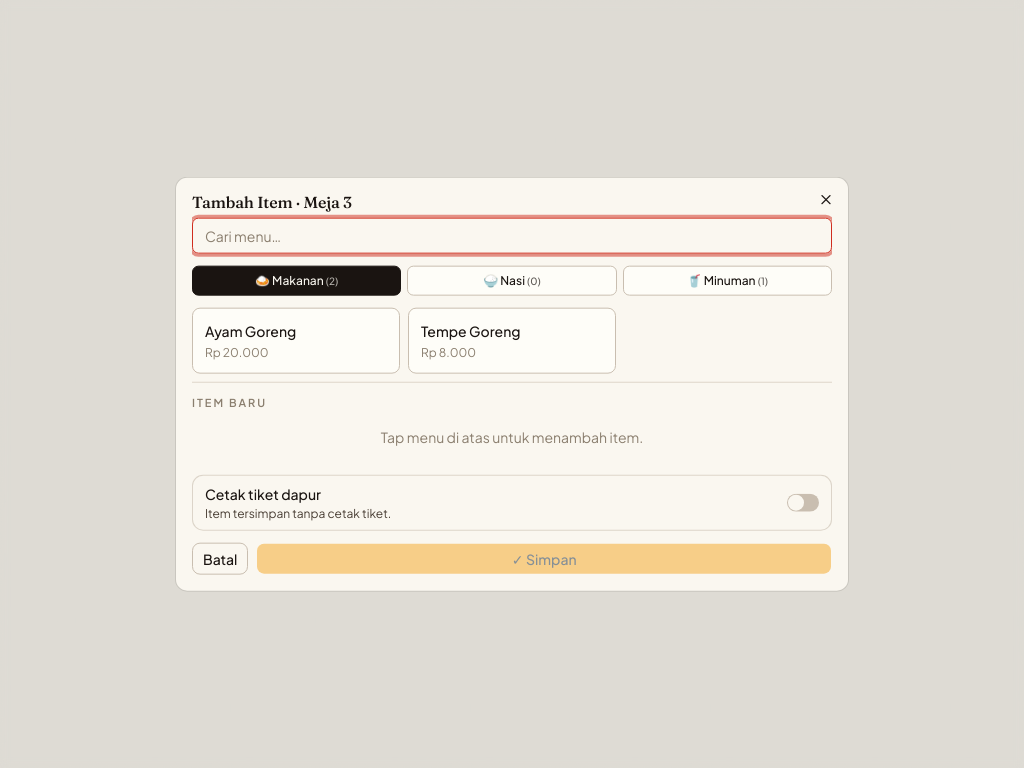
<MonitorAddItemModal /> — opsi cetak › label tombol ikut state switch
This screenshot has width=1024, height=768.
Click the button "Ayam Goreng Rp 20.000".
click(296, 341)  # box [192, 308, 400, 374]
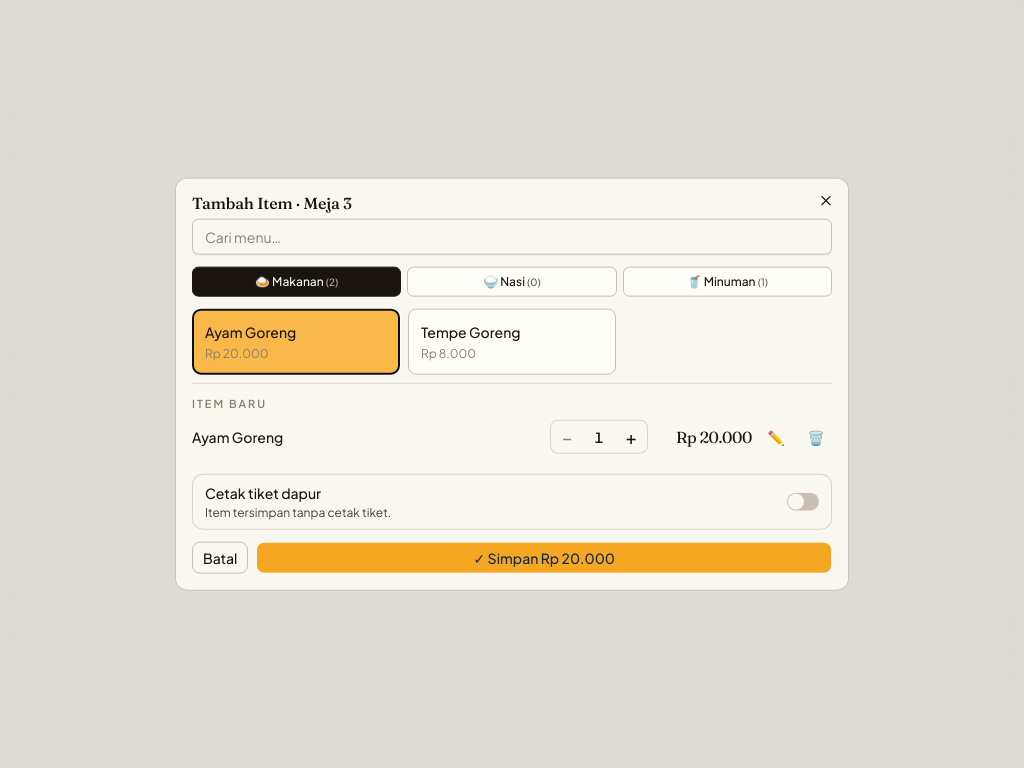
Expected: the button "✓ Simpan Rp 20.000" does not show "cetak", [256, 541, 832, 573]
Click the switch.
click(803, 501)  # box [787, 492, 819, 510]
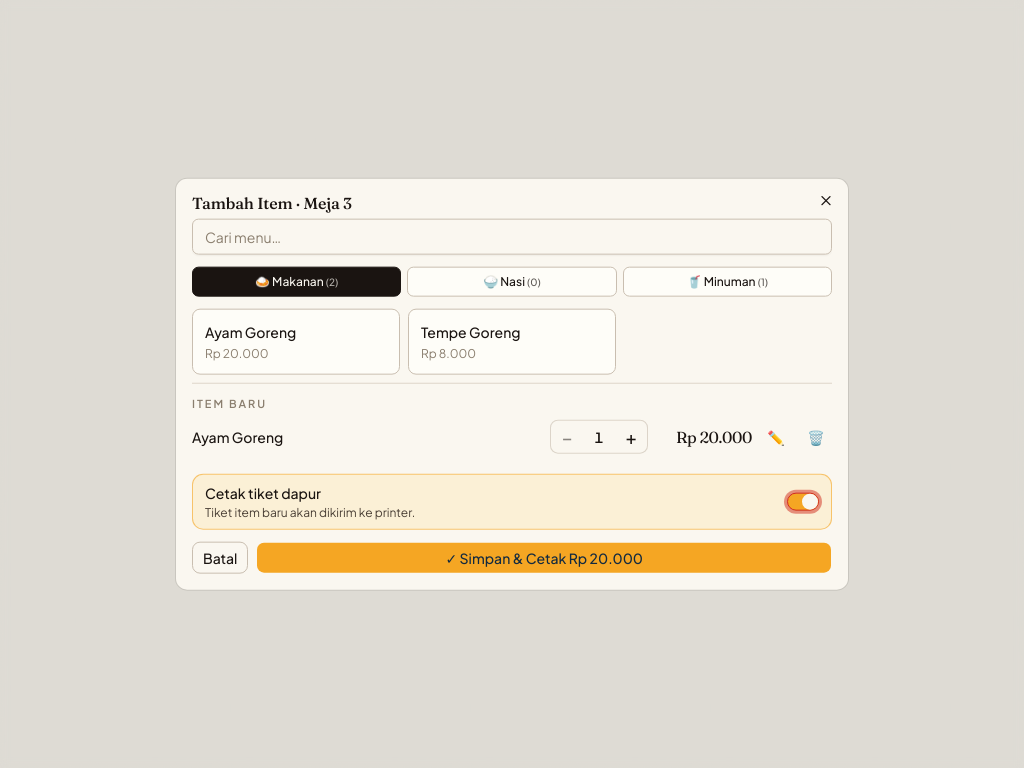
Expected: the button "✓ Simpan & Cetak Rp 20.000" is shown, [256, 541, 832, 573]
